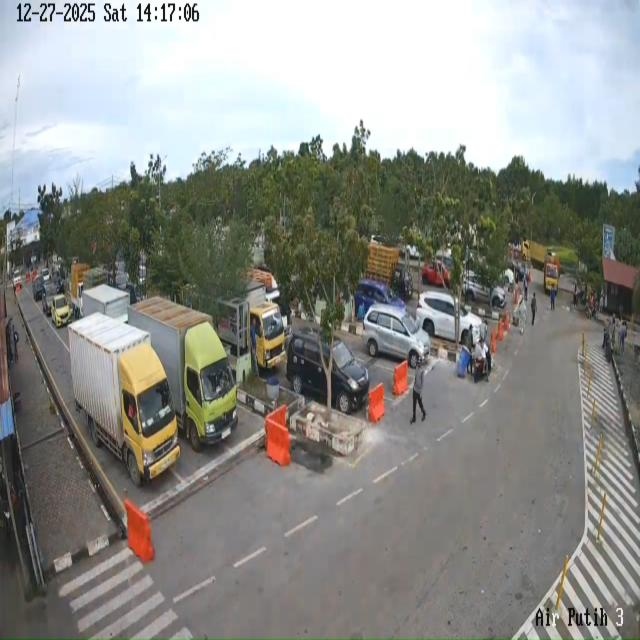Golongan IVA: (286, 327, 370, 414), (362, 304, 430, 369), (416, 291, 483, 344), (354, 279, 406, 314), (463, 272, 506, 308), (51, 294, 71, 328), (42, 280, 58, 315), (32, 274, 44, 301)
Golongan VB: (69, 313, 180, 486), (128, 297, 238, 451), (216, 280, 286, 380), (543, 254, 560, 306)
